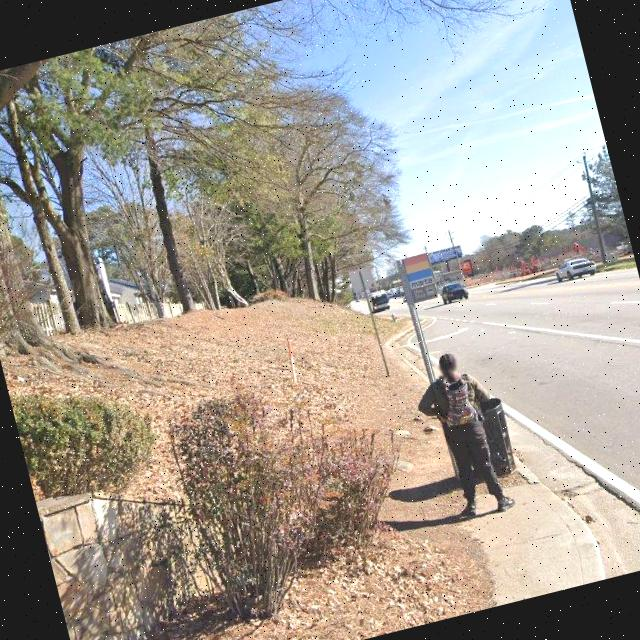trash_can: (468, 396, 519, 482)
